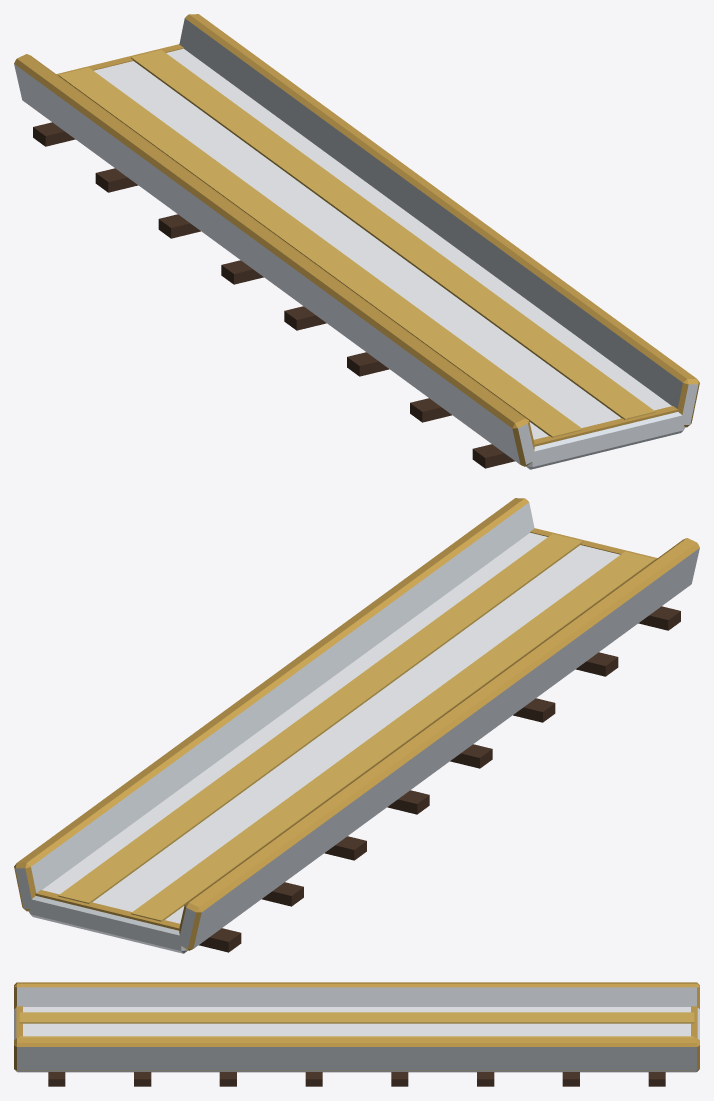
The model's file is SlideChute.obj.
3 views of the same model, one above another, from view 1: azimuth 30°, elevation 25°; view 2: azimuth 150°, elevation 25°; view 3: azimuth 270°, elevation 25° (orthographic). The views are drawn at different scales.
Size of the model in its own units: 2.7 by 0.828 by 12.
